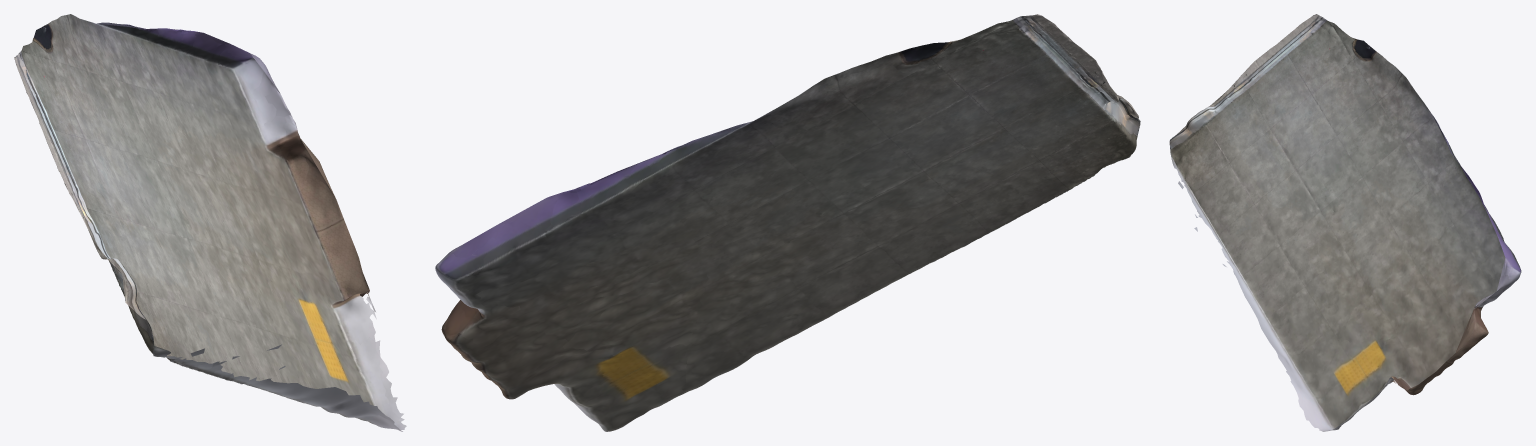
File: 엘베바닥.fbx
3 renders of one model, left to right at view 1: azimuth 30°, elevation 25°; view 2: azimuth 150°, elevation 25°; view 3: azimuth 270°, elevation 25°, orthographic. The views are drawn at different scales.
Parts seen in each view (by area): view 1: Untitled; view 2: Untitled; view 3: Untitled.
Part boxes in pixels (x1,y1,x2,y2): Untitled: (14, 14, 406, 431); Untitled: (435, 14, 1140, 431); Untitled: (1169, 14, 1521, 431).
Size of the model in its own units: 1910 by 1971 by 2114.
Materials: 1 (1 with a texture image).
